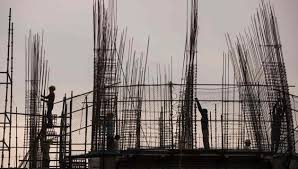human: (194, 95, 218, 149), (42, 85, 59, 125)
